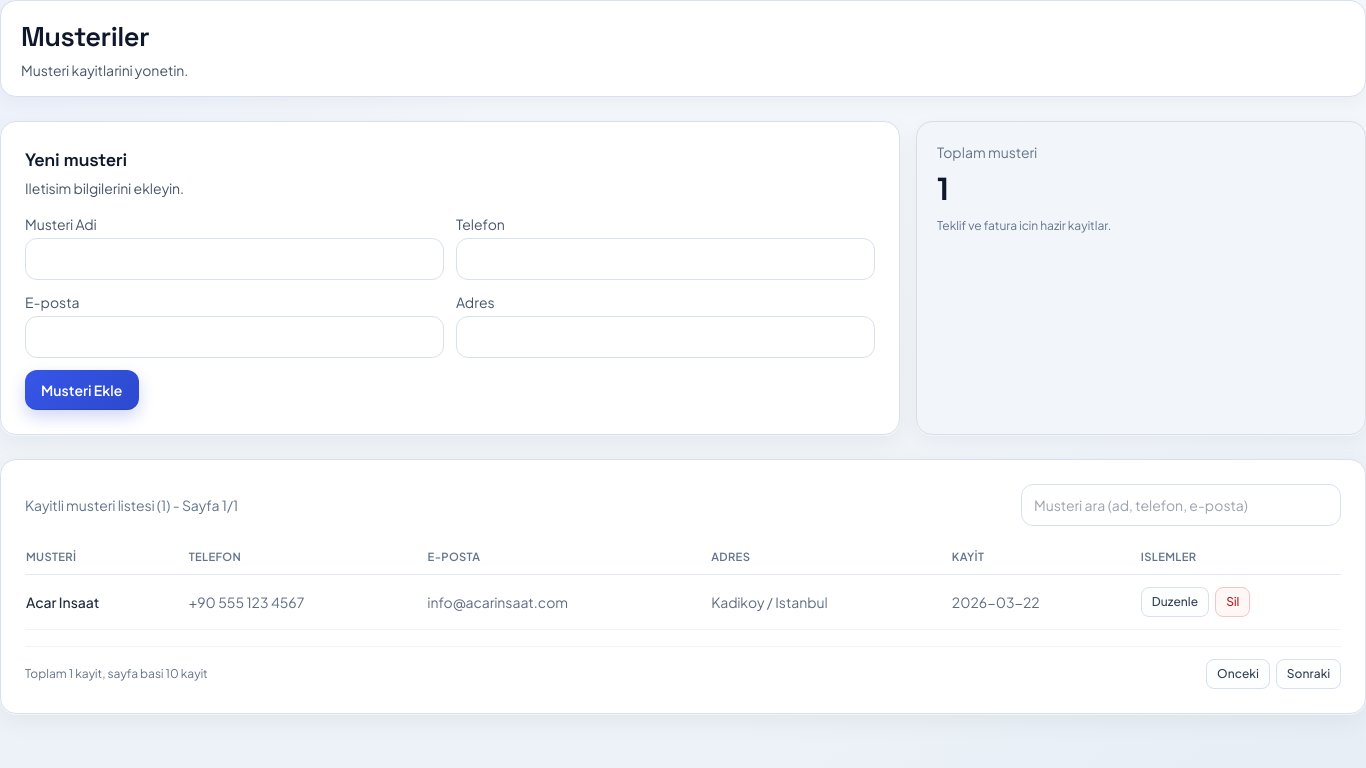
Test: CustomersPage › creates customer successfully
The width and height of the screenshot is (1366, 768).
Expected: the text "Acar Insaat" is shown, [25, 575, 188, 630]
Type "Yeni Musteri" into the field below "Musteri Adi" at (234, 259), box [25, 238, 444, 280]
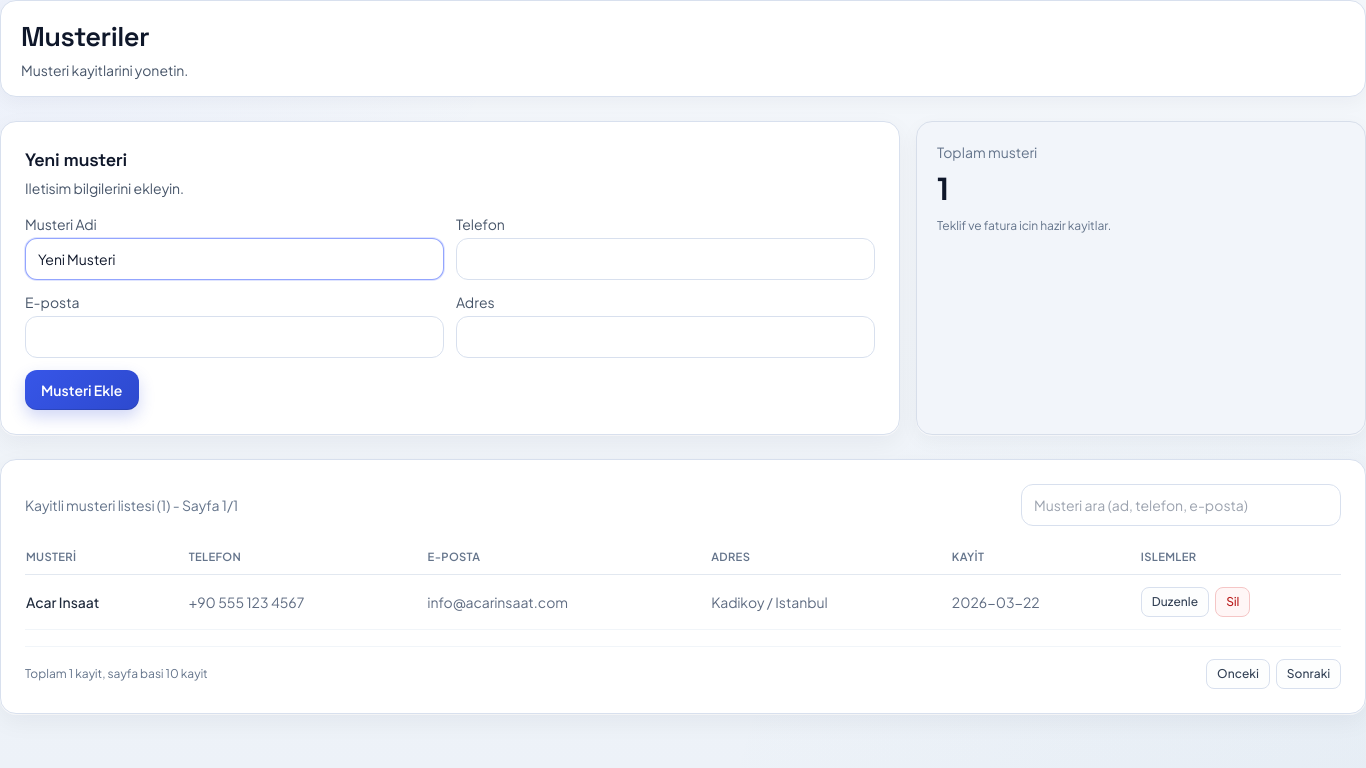
Type "+90 555 111 22 33" into the 2nd field at (666, 259), box [456, 238, 875, 280]
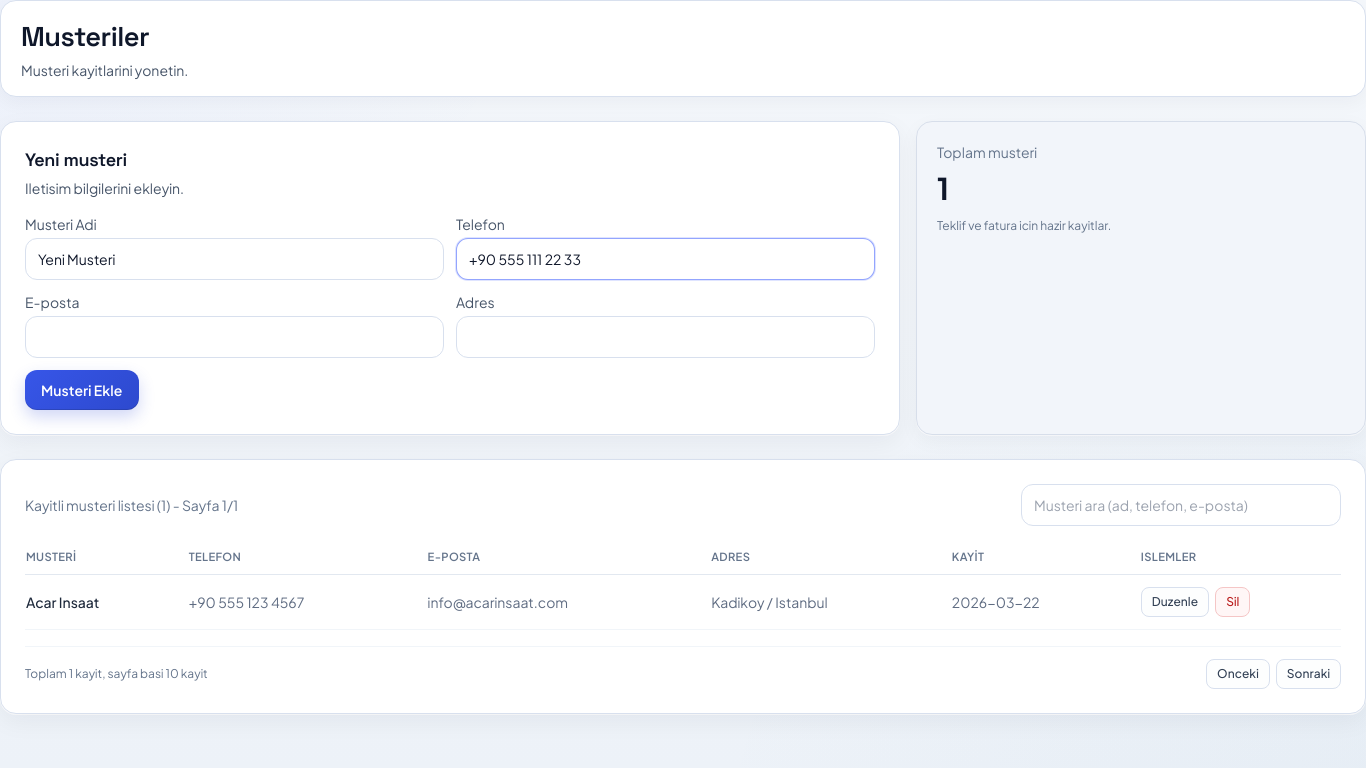
Type "yeni@firma.com" into the 3rd field at (234, 337), box [25, 316, 444, 358]
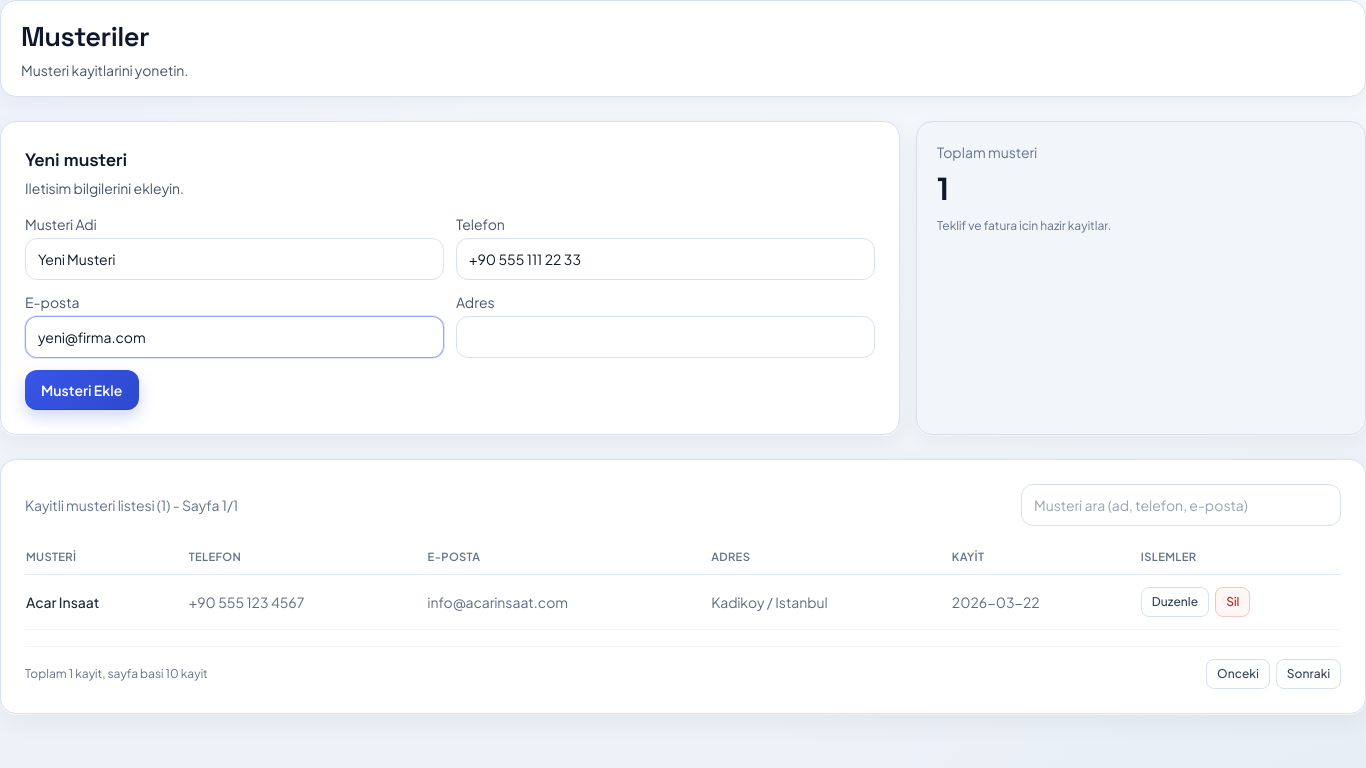
Type "Ankara" into the 4th field at (666, 337), box [456, 316, 875, 358]
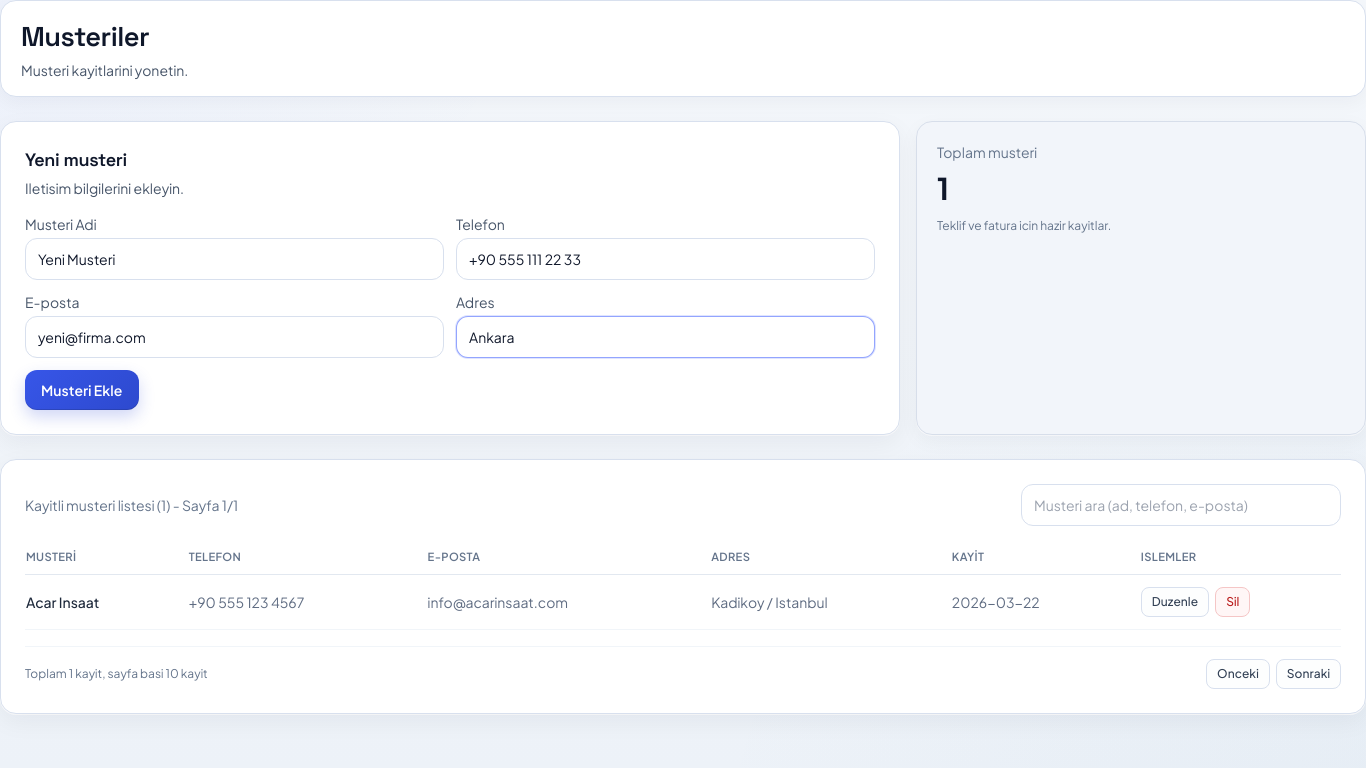
Click the button "Musteri Ekle" at (82, 390), box [25, 370, 138, 410]
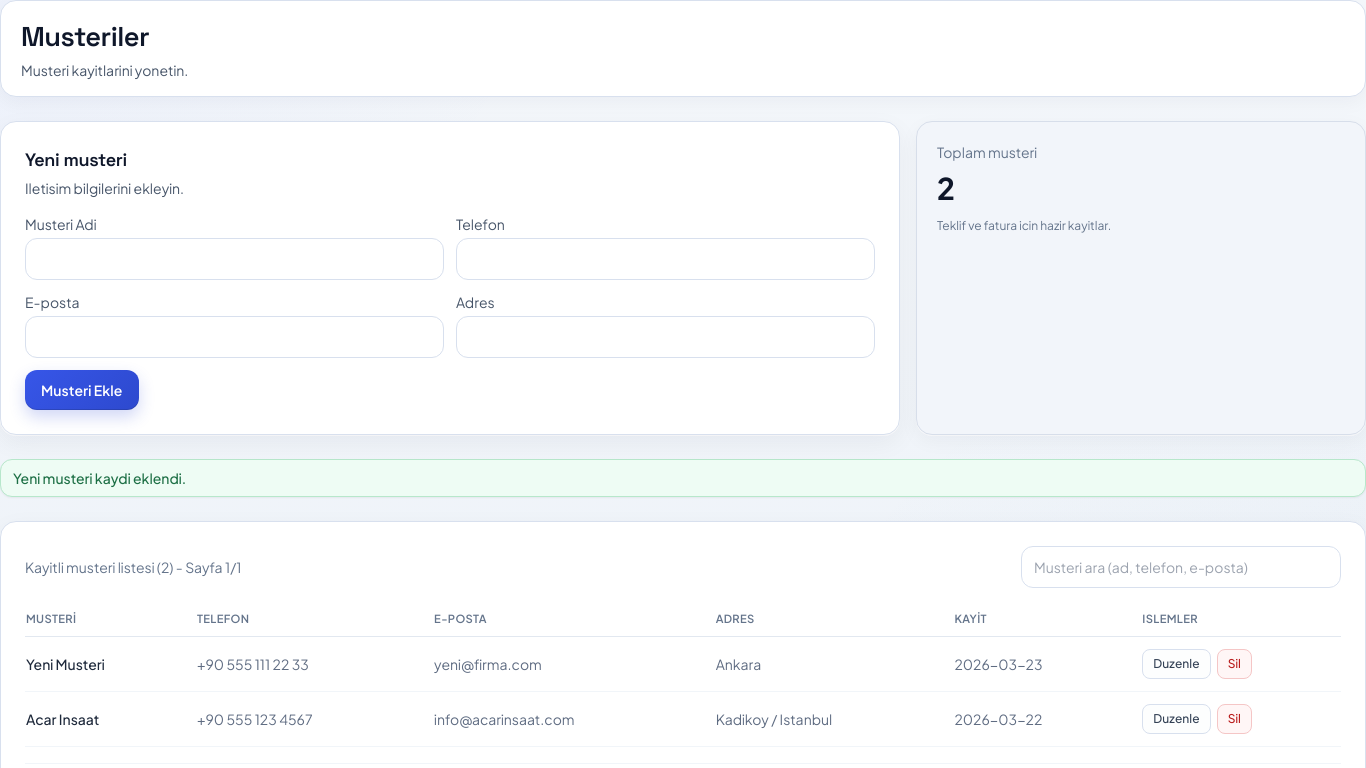
Expected: the text "Yeni musteri kaydi eklendi." is shown, [0, 459, 1365, 497]
